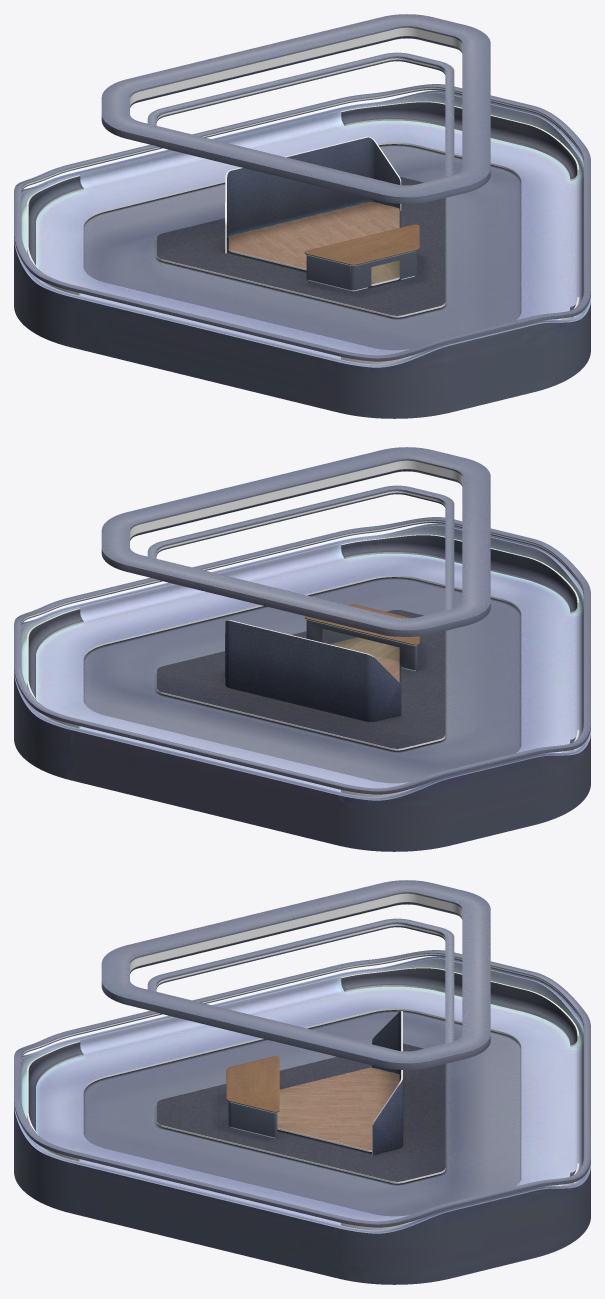
File: environmentDesk.gltf
3 views of the same model, one above another, from view 1: azimuth 30°, elevation 25°; view 2: azimuth 150°, elevation 25°; view 3: azimuth 270°, elevation 25° (orthographic).
Parts seen in each view (by area): view 1: floorBase_geo.002, ceiling_geo.002, backWall_geo, tableSurface_geo; view 2: floorBase_geo.002, ceiling_geo.002, backWall_geo, tableSurface_geo; view 3: floorBase_geo.002, ceiling_geo.002, tableSurface_geo, backWall_geo.
Boxes of the visible parts, box(x1,y1,x2,y2) form: floorBase_geo.002: box(14, 84, 590, 418); ceiling_geo.002: box(101, 14, 490, 203); backWall_geo: box(225, 136, 401, 253); tableSurface_geo: box(304, 224, 419, 291); floorBase_geo.002: box(14, 517, 590, 851); ceiling_geo.002: box(101, 447, 490, 636); backWall_geo: box(225, 620, 401, 721); tableSurface_geo: box(304, 604, 419, 671); floorBase_geo.002: box(14, 950, 590, 1284); ceiling_geo.002: box(101, 880, 490, 1069); tableSurface_geo: box(226, 1056, 279, 1138); backWall_geo: box(372, 1011, 402, 1155).
Bounding box in the file's own units: 17.24 × 5.42 × 15.76.
Materials: 3 (3 with a texture image).
